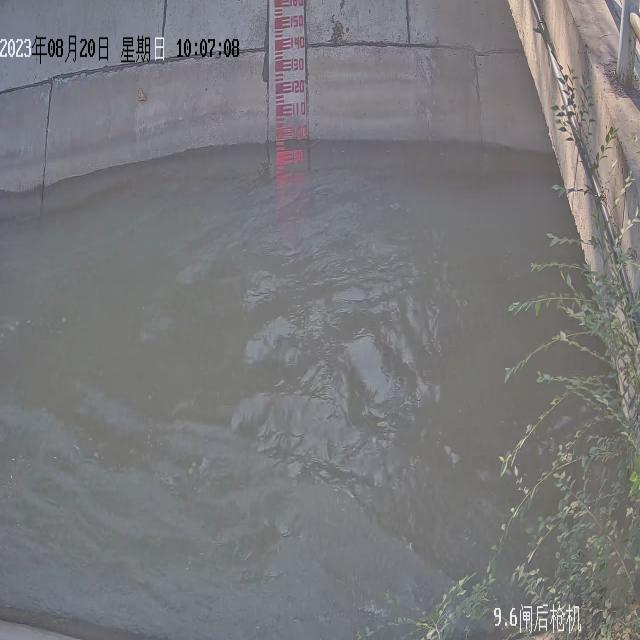ruler: (268, 0, 313, 170)
value: (289, 56, 306, 74), (290, 101, 308, 118), (290, 78, 307, 95), (292, 124, 308, 142), (290, 35, 306, 52), (288, 14, 306, 29), (292, 148, 305, 164), (286, 0, 305, 10)
